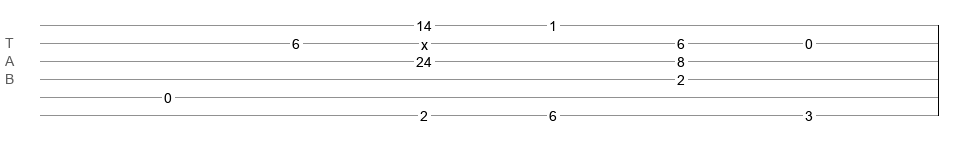0: (164, 90, 172, 100), (805, 36, 813, 46)
1: (549, 18, 557, 28)
14: (416, 18, 432, 28)
2: (420, 108, 428, 118), (677, 72, 685, 82)
24: (416, 54, 432, 64)
3: (805, 108, 813, 118)
6: (292, 36, 300, 46), (549, 108, 557, 118), (677, 36, 685, 46)
8: (677, 54, 685, 64)
x: (421, 37, 428, 45)
